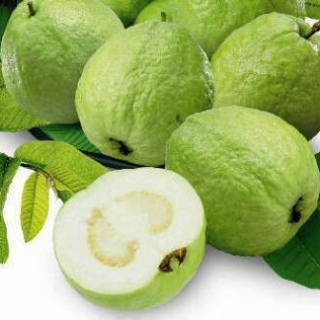oi: (74, 21, 211, 164)
